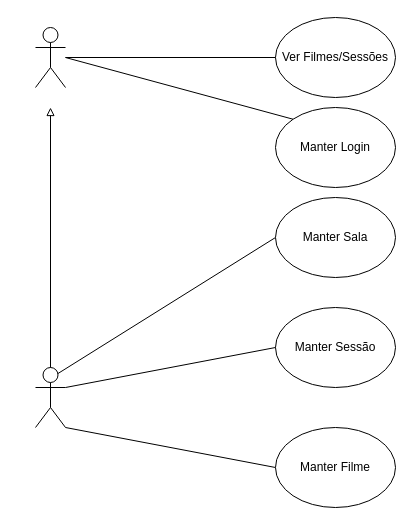
Some shapes in this 413 by 525 pixel diagram are drawn without their labels. Here are the shapes that lost their labels. From the top down, the centre of each, then its label:
pixel 50 57: Visitante
pixel 50 397: Adimistrador
